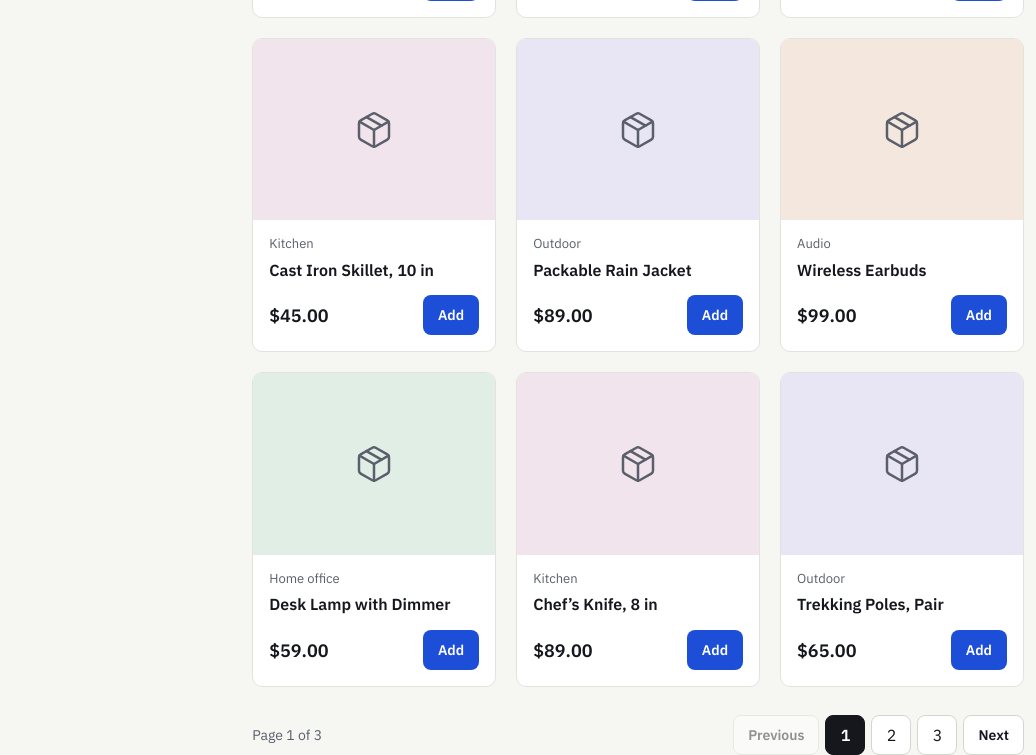
Test: CatalogPage › moves to the next page
The width and height of the screenshot is (1036, 755).
(page scrolled)
Click the button "Next" at (994, 735), box [964,715,1024,754]
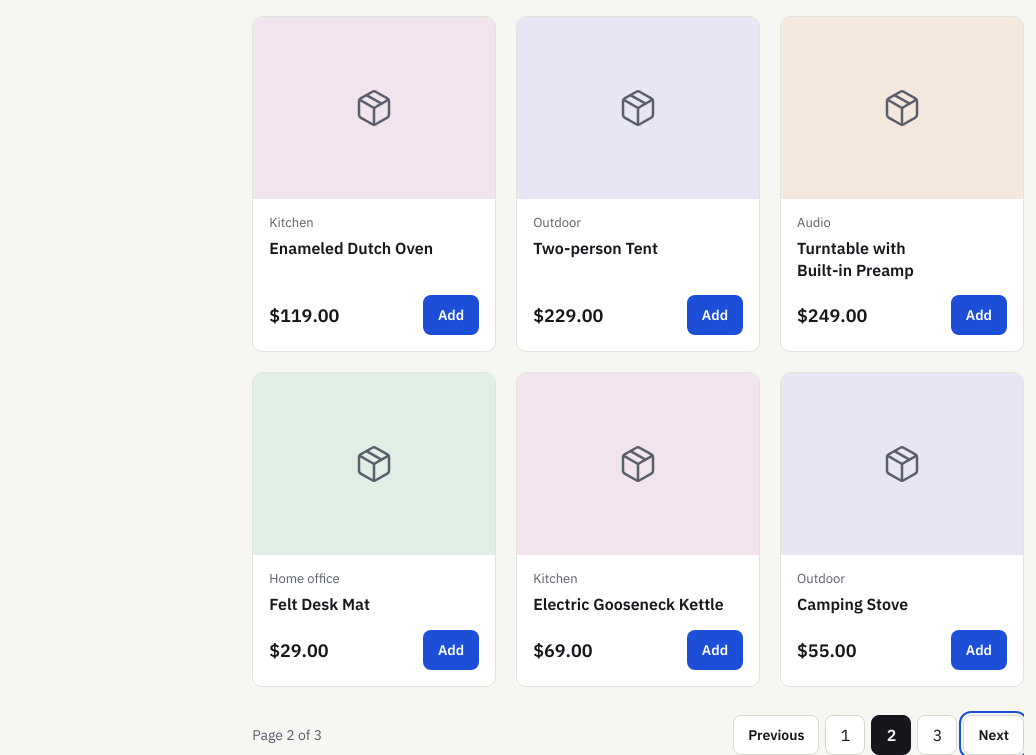
expect the text "Page 2 of 3" is shown: met, box [252,724,322,746]
